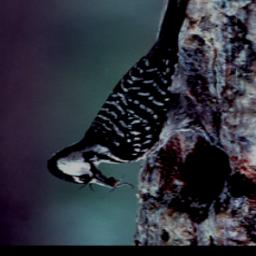Woodpecker: (44, 0, 209, 193)
